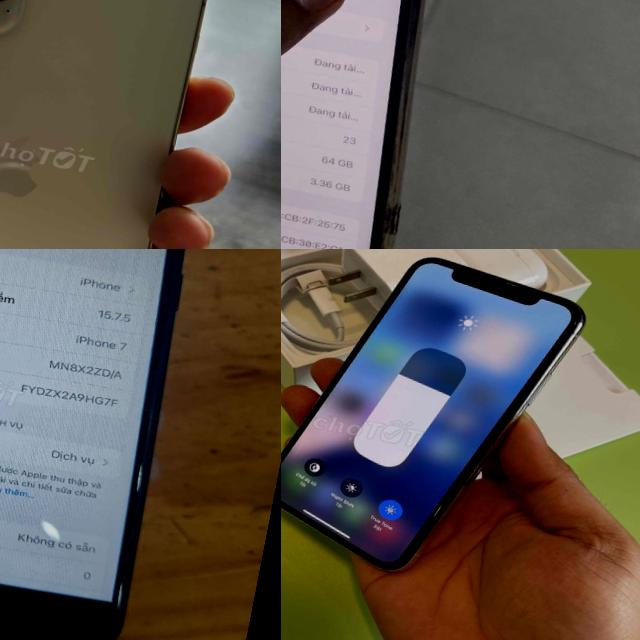scratch: (124, 457, 152, 498), (108, 572, 131, 610)
screen_defect: (281, 48, 301, 249)
